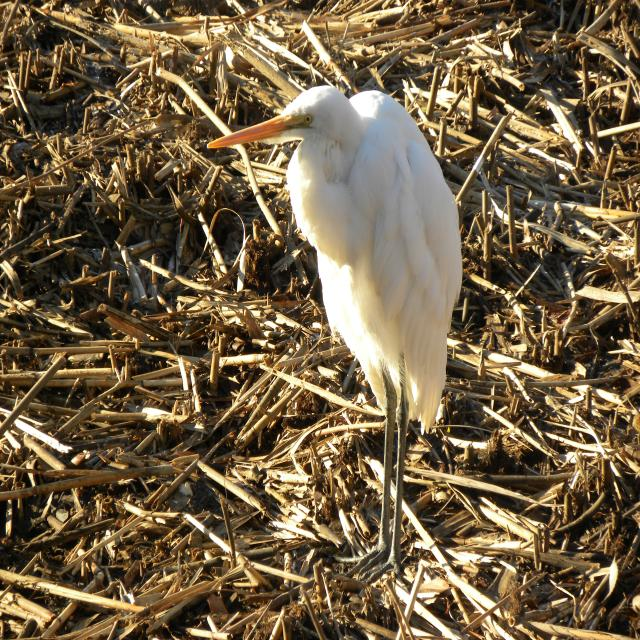bird: (208, 82, 468, 571)
